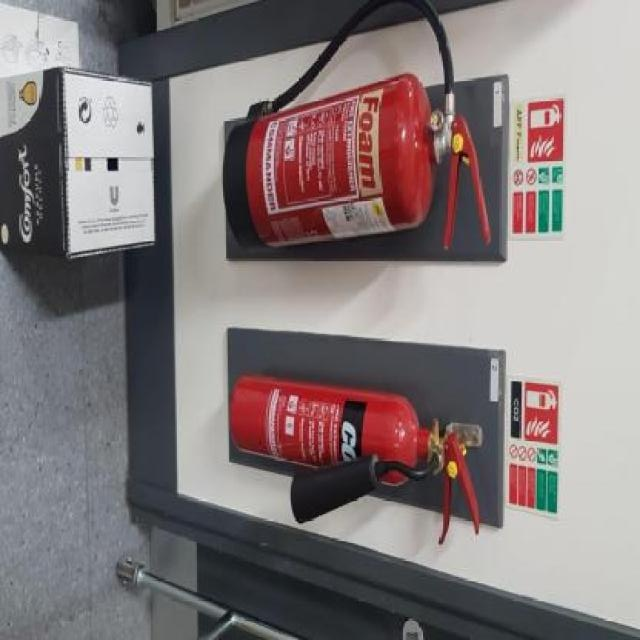fire extinguisher: (220, 0, 491, 252), (227, 373, 481, 545)
